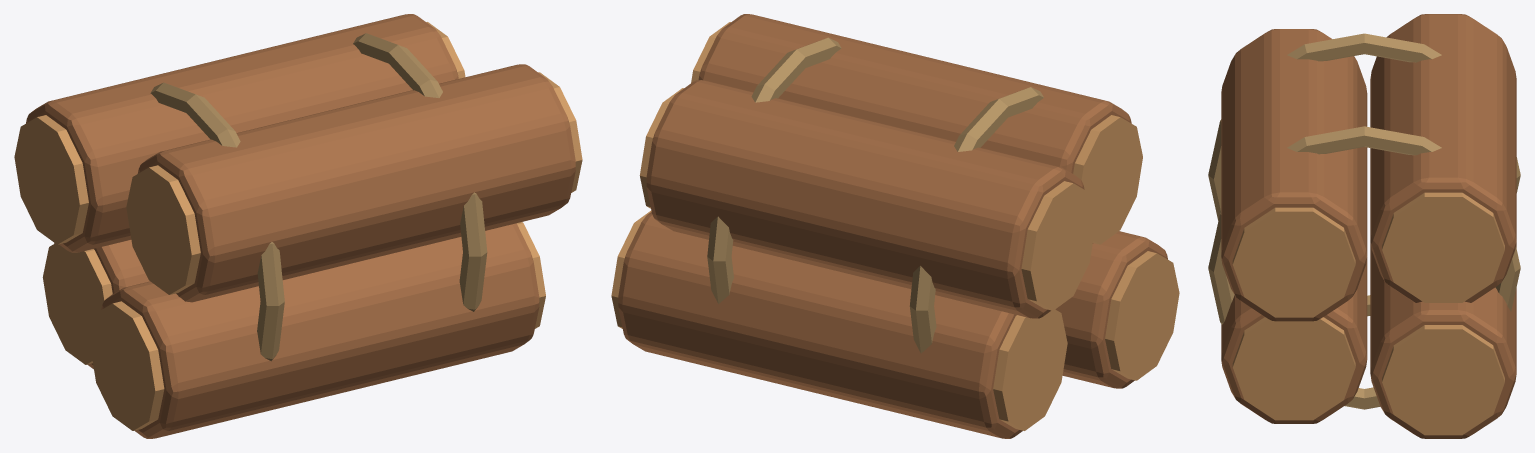
The model's file is economy_cargo_wood_v01.glb.
3 views of the same model, side by side, from view 1: azimuth 30°, elevation 25°; view 2: azimuth 150°, elevation 25°; view 3: azimuth 270°, elevation 25° (orthographic). The views are drawn at different scales.
Parts seen in each view (by area): view 1: GEO_WoodCargoLog_2, GEO_WoodCargoLog_0, GEO_WoodCargoLog_3, GEO_WoodCargoEnd_2_L, GEO_WoodCargoEnd_0_L, GEO_WoodCargoEnd_3_L, GEO_WoodCargoEnd_1_L, GEO_WoodCargoBinding.001, GEO_WoodCargoBinding, GEO_WoodCargoLog_1, GEO_WoodCargoEnd_2_R, GEO_WoodCargoEnd_0_R; view 2: GEO_WoodCargoLog_3, GEO_WoodCargoLog_1, GEO_WoodCargoLog_2, GEO_WoodCargoLog_0, GEO_WoodCargoEnd_3_L, GEO_WoodCargoEnd_0_L, GEO_WoodCargoEnd_1_L, GEO_WoodCargoEnd_2_L, GEO_WoodCargoBinding, GEO_WoodCargoBinding.001, GEO_WoodCargoEnd_3_R, GEO_WoodCargoEnd_1_R; view 3: GEO_WoodCargoLog_2, GEO_WoodCargoLog_3, GEO_WoodCargoEnd_2_R, GEO_WoodCargoEnd_3_R, GEO_WoodCargoEnd_1_R, GEO_WoodCargoEnd_0_R, GEO_WoodCargoLog_1, GEO_WoodCargoBinding.001, GEO_WoodCargoLog_0, GEO_WoodCargoBinding.
Part boxes in pixels (left/top/right/bottom): GEO_WoodCargoLog_2: left=137, top=64, right=575, bottom=302; GEO_WoodCargoLog_0: left=101, top=223, right=539, bottom=438; GEO_WoodCargoLog_3: left=26, top=14, right=458, bottom=252; GEO_WoodCargoEnd_2_L: left=126, top=165, right=200, bottom=294; GEO_WoodCargoEnd_0_L: left=90, top=301, right=164, bottom=430; GEO_WoodCargoEnd_3_L: left=14, top=115, right=88, bottom=244; GEO_WoodCargoEnd_1_L: left=42, top=243, right=112, bottom=364; GEO_WoodCargoBinding.001: left=353, top=33, right=487, bottom=311; GEO_WoodCargoBinding: left=150, top=82, right=284, bottom=361; GEO_WoodCargoLog_1: left=54, top=240, right=149, bottom=369; GEO_WoodCargoEnd_2_R: left=538, top=72, right=582, bottom=192; GEO_WoodCargoEnd_0_R: left=517, top=222, right=545, bottom=328; GEO_WoodCargoLog_3: left=646, top=80, right=1084, bottom=318; GEO_WoodCargoLog_1: left=618, top=212, right=1056, bottom=438; GEO_WoodCargoLog_2: left=698, top=14, right=1131, bottom=243; GEO_WoodCargoLog_0: left=1056, top=231, right=1167, bottom=388; GEO_WoodCargoEnd_3_L: left=1021, top=181, right=1095, bottom=310; GEO_WoodCargoEnd_0_L: left=1105, top=251, right=1179, bottom=380; GEO_WoodCargoEnd_1_L: left=993, top=309, right=1067, bottom=430; GEO_WoodCargoEnd_2_L: left=1073, top=115, right=1142, bottom=244; GEO_WoodCargoBinding: left=909, top=87, right=1043, bottom=353; GEO_WoodCargoBinding.001: left=707, top=37, right=841, bottom=303; GEO_WoodCargoEnd_3_R: left=639, top=88, right=683, bottom=208; GEO_WoodCargoEnd_1_R: left=611, top=210, right=651, bottom=328; GEO_WoodCargoLog_2: left=1221, top=29, right=1367, bottom=321; GEO_WoodCargoLog_3: left=1370, top=14, right=1516, bottom=302; GEO_WoodCargoEnd_2_R: left=1232, top=207, right=1355, bottom=317; GEO_WoodCargoEnd_3_R: left=1382, top=192, right=1504, bottom=302; GEO_WoodCargoEnd_1_R: left=1382, top=325, right=1504, bottom=435; GEO_WoodCargoEnd_0_R: left=1232, top=317, right=1355, bottom=420; GEO_WoodCargoLog_1: left=1370, top=242, right=1516, bottom=438; GEO_WoodCargoBinding.001: left=1208, top=126, right=1520, bottom=409; GEO_WoodCargoLog_0: left=1221, top=258, right=1367, bottom=423; GEO_WoodCargoBinding: left=1208, top=33, right=1520, bottom=316.
Size of the model in its own units: 1.05 by 0.712 by 0.712.
